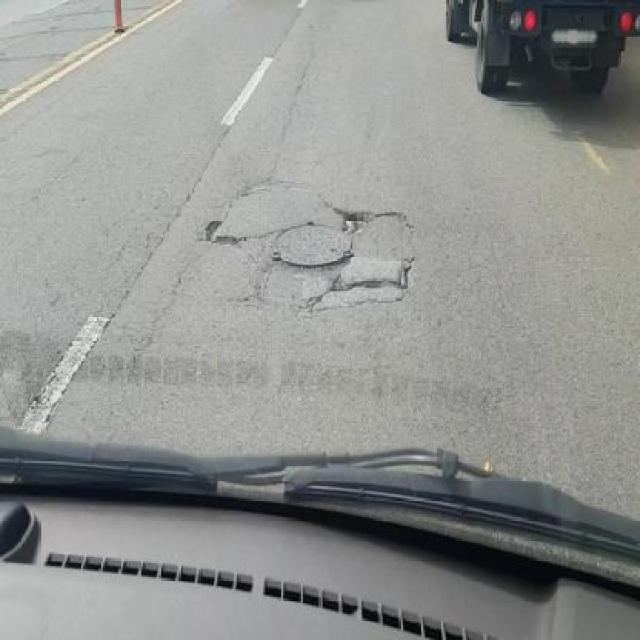Manhole: (270, 222, 354, 266)
Pothole: (200, 217, 243, 250), (337, 202, 376, 232), (360, 275, 382, 293)
